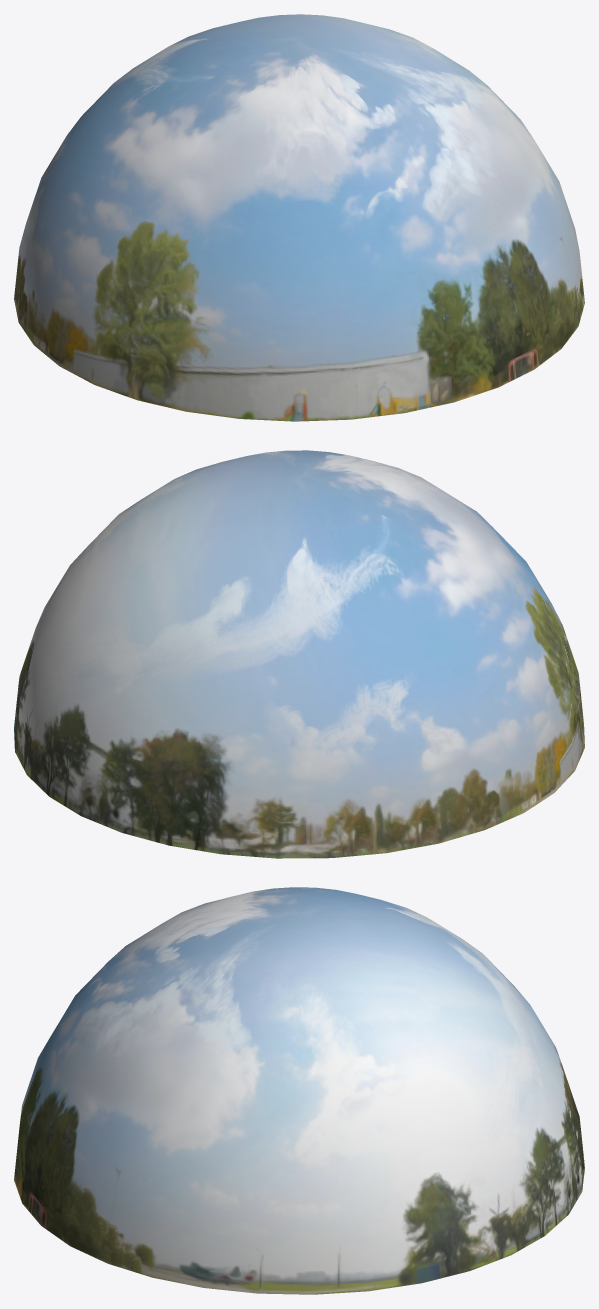
File: MathClass_V3.gltf
The picture shows the model from 3 angles, top to bottom: view 1: azimuth 30°, elevation 25°; view 2: azimuth 150°, elevation 25°; view 3: azimuth 270°, elevation 25°; orthographic projection.
Parts seen in each view (by area): view 1: Environment; view 2: Environment; view 3: Environment.
Part boxes in pixels (x1,y1,x2,y2): Environment: (14,14,584,421); Environment: (14,450,584,858); Environment: (14,887,584,1294).
Size of what is drawn, in the model's own units: 199 by 99.96 by 199.
Materials: 4 (4 with a texture image).
